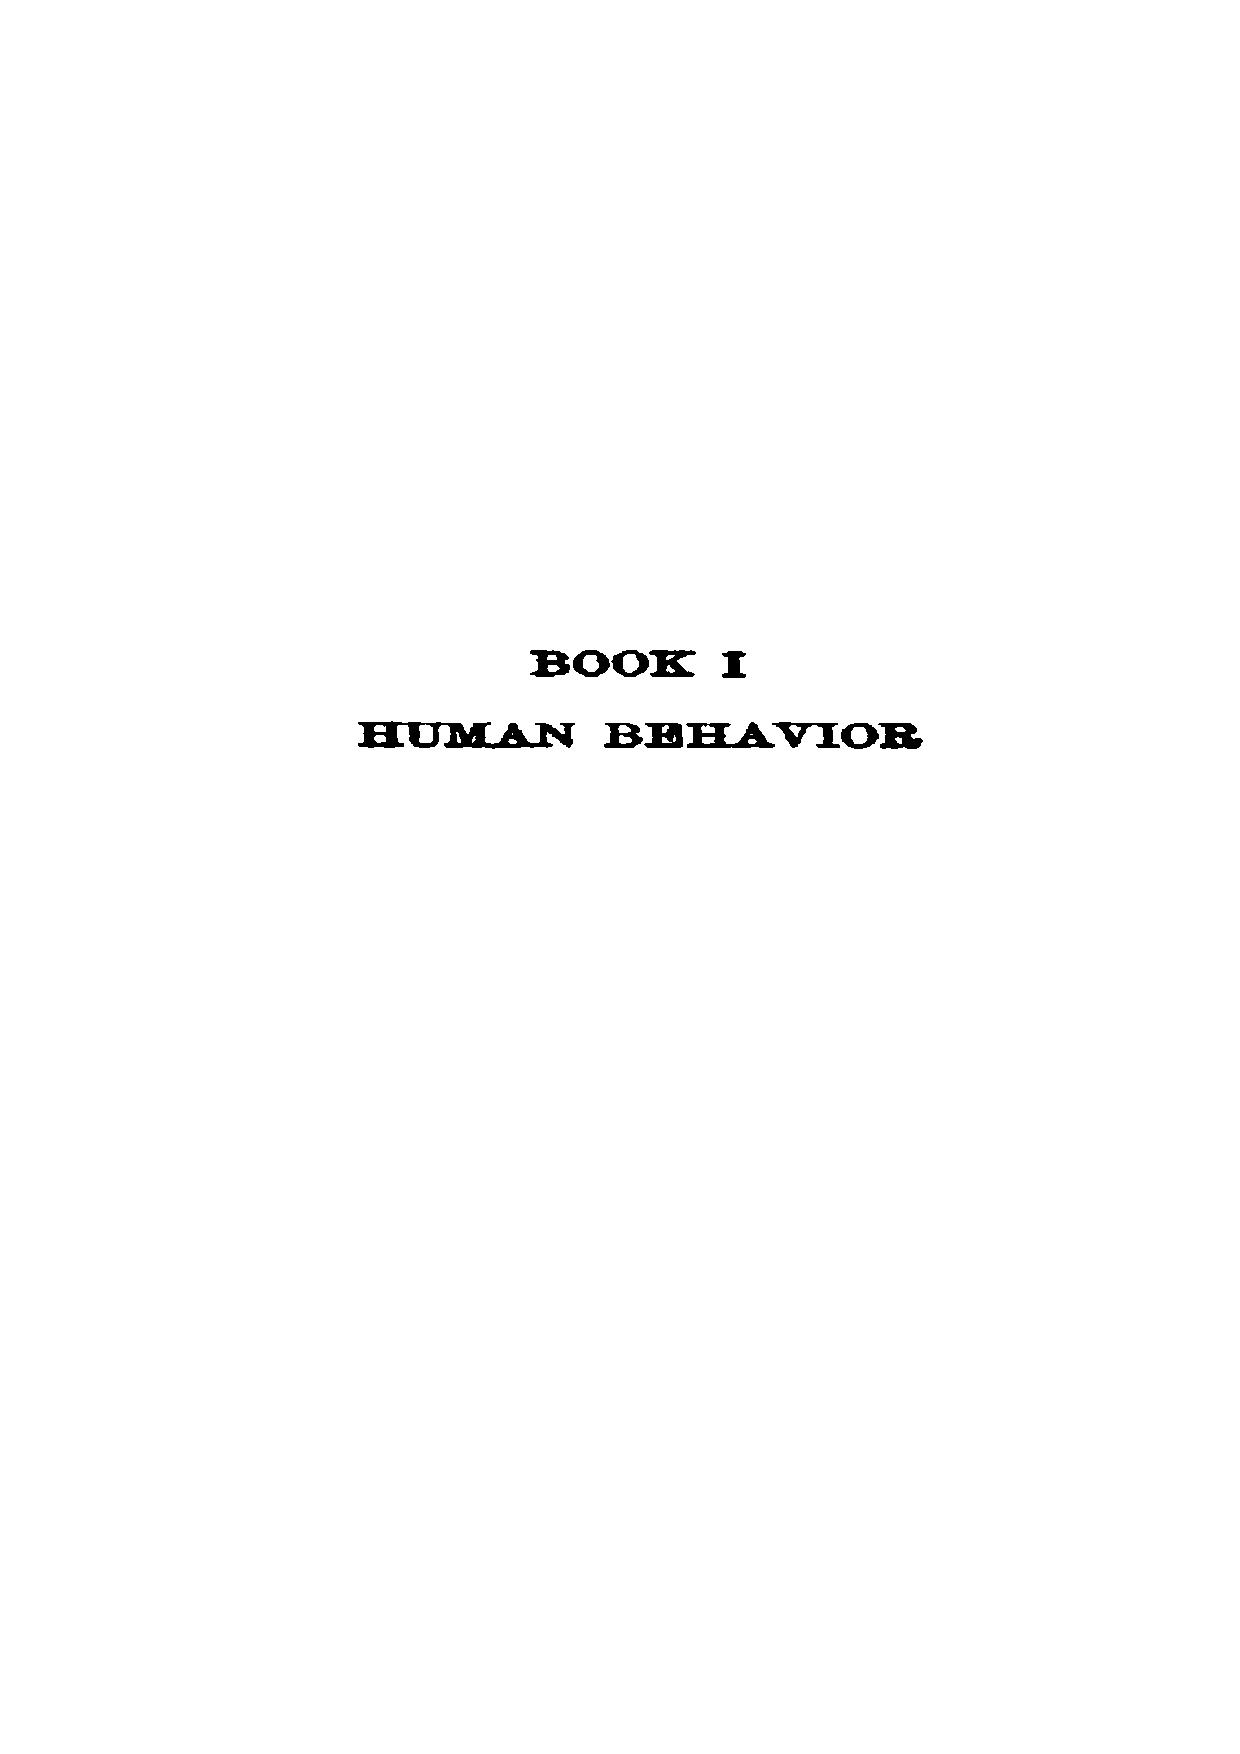chapter: (352, 643, 927, 752)
